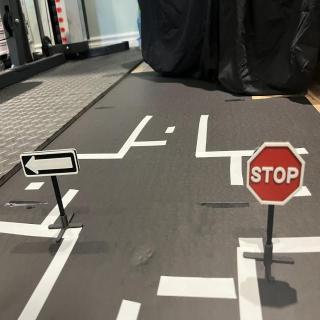sign_oneway_left: (21, 148, 83, 179)
sign_stop: (248, 143, 308, 205)
